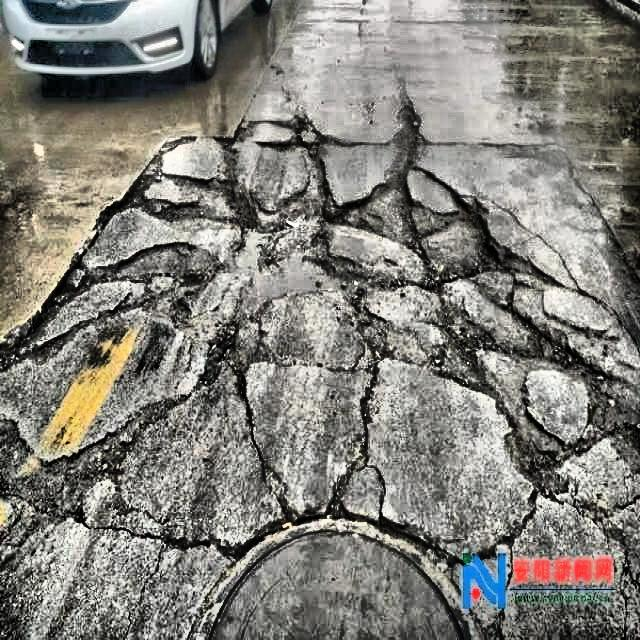buraco: (9, 135, 638, 569)
